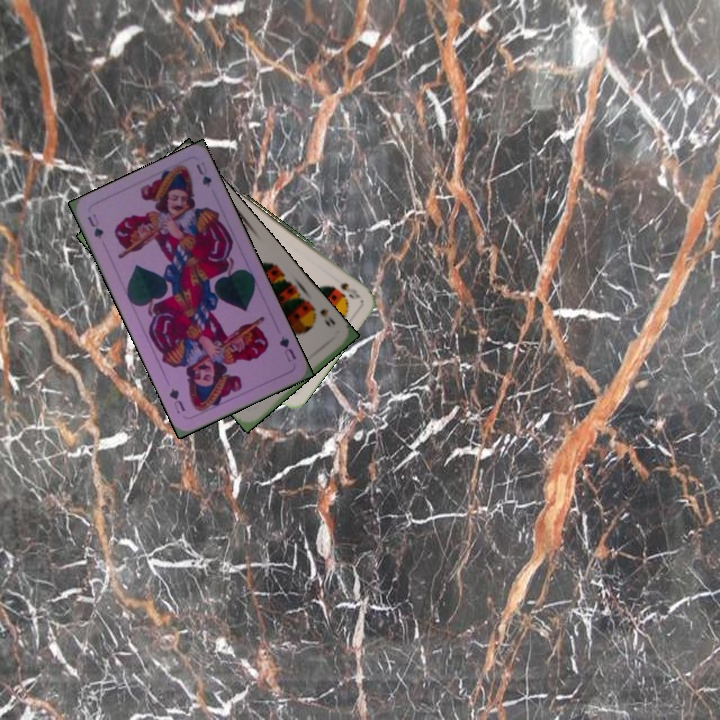GU: (275, 332, 298, 364), (84, 209, 106, 242)
S9: (306, 302, 338, 329)
SO: (336, 278, 362, 302)
